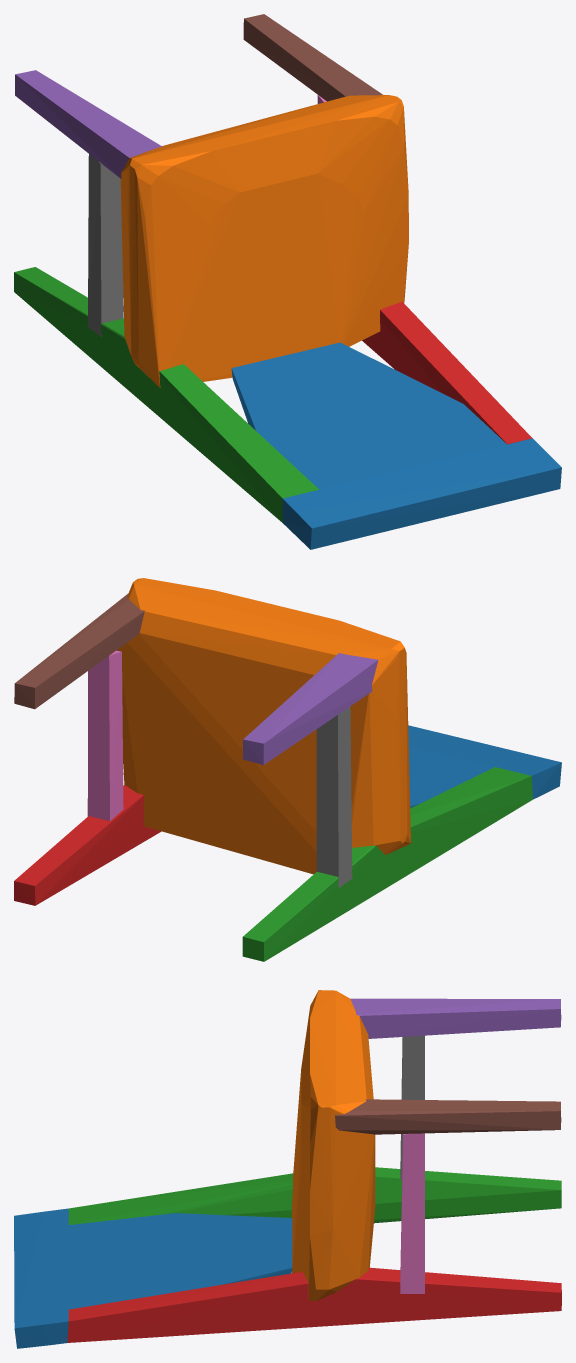
Rendered from Round_Table_Chair_03_cvx.obj.
The picture shows the model from 3 angles, top to bottom: view 1: azimuth 30°, elevation 25°; view 2: azimuth 150°, elevation 25°; view 3: azimuth 270°, elevation 25°; orthographic projection. The views are drawn at different scales.
Visible parts, largest first — view 1: scenes/apartment_0000_coacd/output/Unknown/Round_Table_Chair_03/; view 2: scenes/apartment_0000_coacd/output/Unknown/Round_Table_Chair_03/; view 3: scenes/apartment_0000_coacd/output/Unknown/Round_Table_Chair_03/.
Part boxes in pixels (x1=…): scenes/apartment_0000_coacd/output/Unknown/Round_Table_Chair_03/: x1=14, y1=14, x2=561, y2=549; scenes/apartment_0000_coacd/output/Unknown/Round_Table_Chair_03/: x1=14, y1=578, x2=561, y2=961; scenes/apartment_0000_coacd/output/Unknown/Round_Table_Chair_03/: x1=14, y1=990, x2=561, y2=1348.
Size of the model in its own units: 0.6869 by 0.6537 by 1.32.
